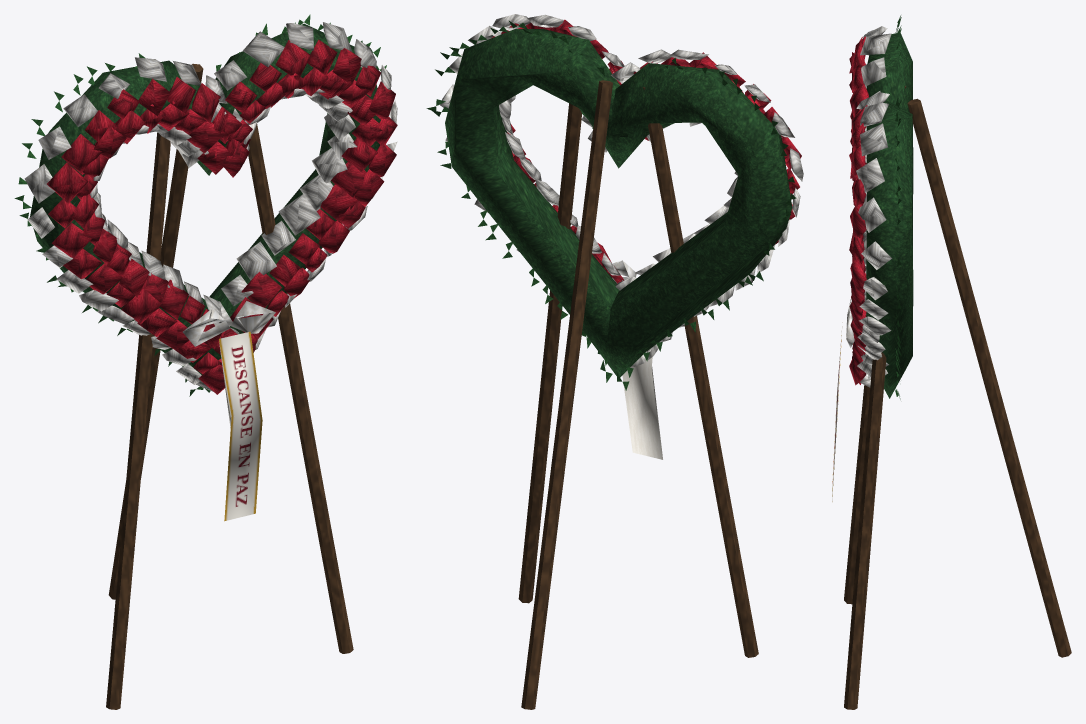
The model's file is corona_corazon_lod.obj.
The picture shows the model from 3 angles, left to right: view 1: azimuth 30°, elevation 25°; view 2: azimuth 150°, elevation 25°; view 3: azimuth 270°, elevation 25°; orthographic projection. The views are drawn at different scales.
Parts seen in each view (by area): view 1: Flores_Petalo_Rojo, Flores_Petalo_Blanco, Base, Cylinder, Cylinder.001, Liston, Cylinder.002, Mono, Flores_Hoja_Verde_Oscuro; view 2: Base, Cylinder.002, Flores_Petalo_Blanco, Cylinder, Cylinder.001, Flores_Hoja_Verde_Oscuro, Liston, Flores_Petalo_Rojo; view 3: Base, Cylinder.002, Flores_Petalo_Blanco, Cylinder.001, Flores_Petalo_Rojo, Cylinder, Flores_Hoja_Verde_Oscuro.
Boxes of the visible parts, x1,y1,x2,y2 form: Flores_Petalo_Rojo: [47, 39, 397, 394]; Flores_Petalo_Blanco: [24, 22, 397, 391]; Base: [30, 23, 380, 392]; Cylinder: [106, 132, 170, 709]; Cylinder.001: [248, 123, 353, 653]; Liston: [219, 331, 262, 521]; Cylinder.002: [108, 63, 203, 599]; Mono: [182, 301, 275, 346]; Flores_Hoja_Verde_Oscuro: [14, 14, 386, 396]; Base: [445, 28, 792, 377]; Cylinder.002: [521, 80, 612, 709]; Flores_Petalo_Blanco: [440, 14, 803, 367]; Cylinder: [642, 87, 758, 657]; Cylinder.001: [518, 103, 581, 603]; Flores_Hoja_Verde_Oscuro: [426, 21, 796, 390]; Liston: [622, 357, 662, 459]; Flores_Petalo_Rojo: [491, 19, 801, 283]; Base: [866, 32, 913, 398]; Cylinder.002: [907, 98, 1071, 657]; Flores_Petalo_Blanco: [856, 26, 891, 387]; Cylinder.001: [844, 352, 886, 709]; Flores_Petalo_Rojo: [849, 36, 868, 385]; Cylinder: [844, 86, 906, 604]; Flores_Hoja_Verde_Oscuro: [895, 15, 901, 399].
Bounding box in the file's own units: 0.8503 × 1.33 × 0.4916.
7 materials, 7 textured.
